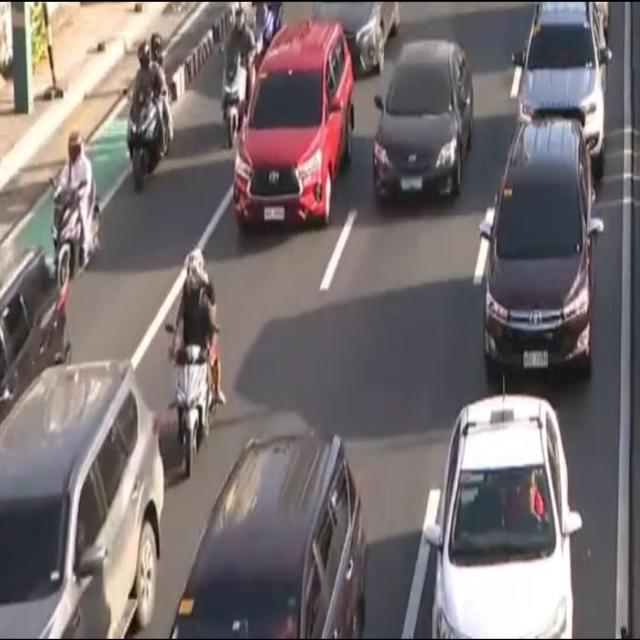Motorcycle: (163, 250, 224, 478), (48, 126, 100, 293), (123, 32, 174, 194), (220, 8, 257, 150)
SUV: (0, 354, 167, 636), (167, 432, 370, 639), (477, 116, 603, 394), (234, 21, 352, 236), (513, 0, 614, 168)
Sedan: (372, 41, 475, 208)
